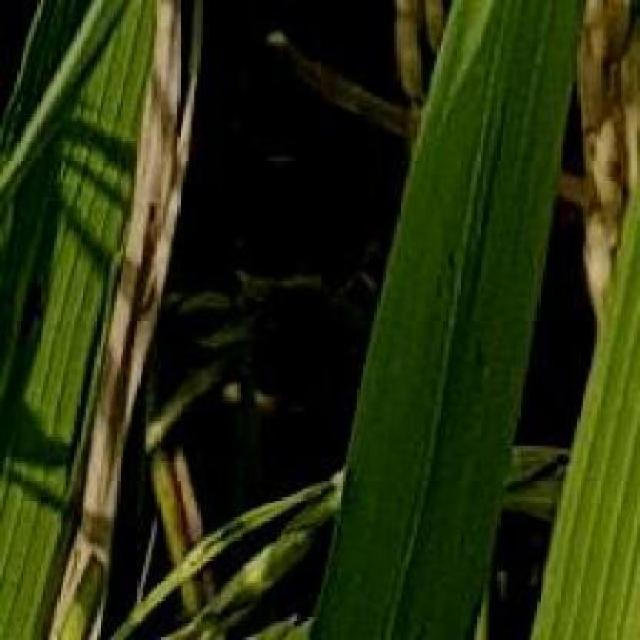Brown_Spot: (102, 1, 200, 453)
